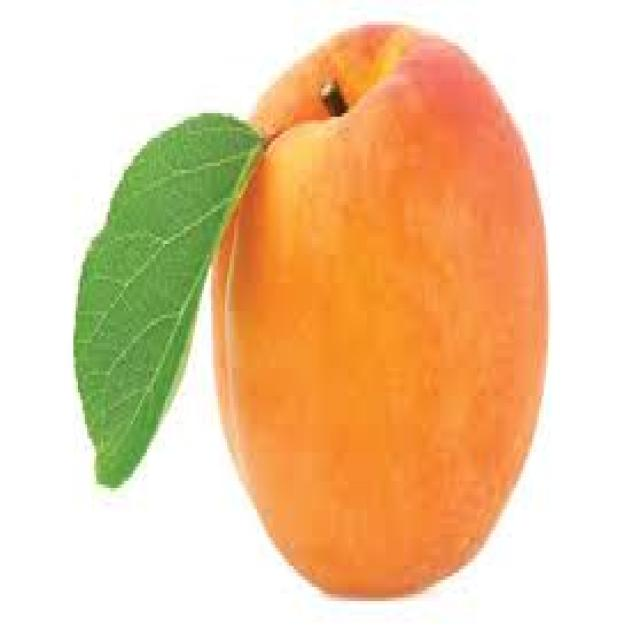kayisi: (227, 0, 553, 610)
kayisi_yapragi: (62, 97, 268, 504)
